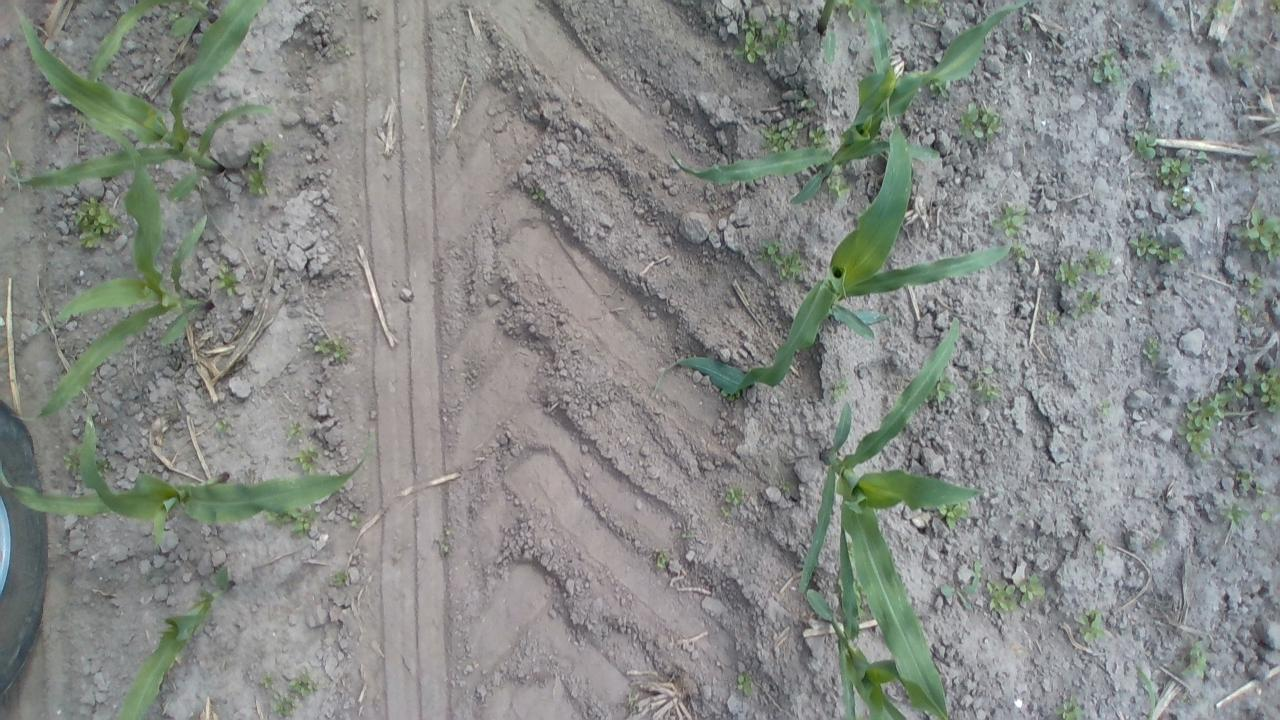Maize: (680, 116, 1009, 396), (803, 308, 989, 720), (668, 1, 1028, 206), (10, 4, 278, 206), (36, 119, 214, 417), (8, 412, 374, 544), (112, 564, 236, 718)
Weeds: (1182, 395, 1228, 458), (1239, 200, 1280, 269), (983, 572, 1043, 618), (757, 118, 829, 152), (66, 198, 116, 246), (1156, 158, 1200, 209), (760, 235, 804, 285), (305, 330, 354, 374), (1235, 369, 1280, 416), (960, 104, 1009, 146), (246, 138, 278, 200), (1130, 232, 1184, 262), (941, 562, 983, 598), (1192, 640, 1222, 686), (284, 669, 330, 698), (994, 204, 1024, 244), (265, 686, 302, 716), (1086, 249, 1118, 282), (1094, 54, 1120, 94), (736, 664, 762, 704), (716, 479, 754, 506), (937, 503, 977, 526), (770, 17, 797, 51), (1078, 615, 1108, 645), (1070, 291, 1100, 321), (1132, 129, 1160, 161), (280, 512, 322, 533), (736, 28, 766, 57), (294, 447, 328, 472), (654, 540, 676, 578), (970, 376, 998, 405), (1220, 500, 1250, 527), (1234, 472, 1266, 497), (331, 564, 355, 596), (217, 267, 240, 291), (1052, 698, 1081, 717), (1143, 336, 1162, 364), (1060, 262, 1082, 285), (1247, 270, 1264, 296), (1258, 506, 1280, 523), (1042, 312, 1060, 329), (348, 508, 361, 530), (936, 388, 952, 404), (1093, 543, 1107, 559), (1238, 306, 1252, 321)
